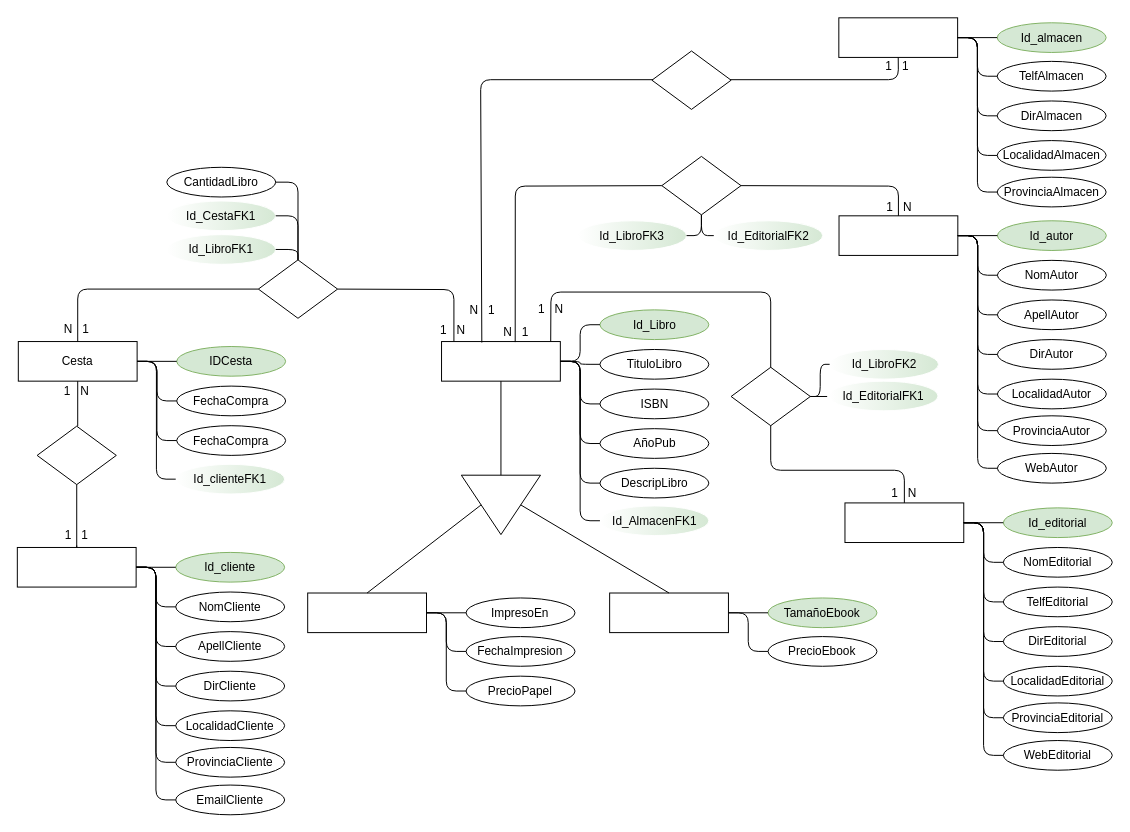
The diagram is 1130 pixels wide and 832 high, and some of its shapes have lost their labels. Each missing label, with the centre of its shape:
Almacen: pixel 898 37
Autor: pixel 898 235
Cliente: pixel 76 566
Contiene 1:N: pixel 691 79
Contiene N:M: pixel 297 288
E-Book: pixel 668 612
Editorial: pixel 904 522
Firma N:M: pixel 701 185
Libro: pixel 500 361
Papel: pixel 366 612
Publica N:M: pixel 770 396
Tiene 1:N: pixel 76 455
